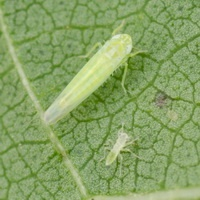insect: (44, 34, 131, 123)
